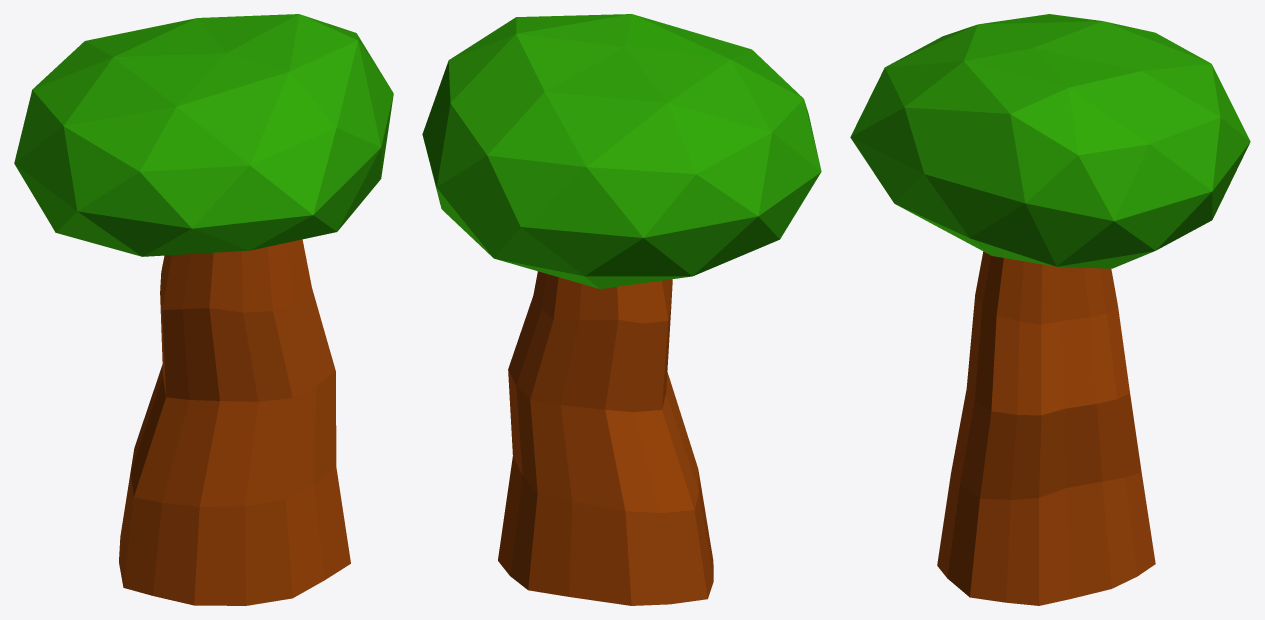
The model's file is bushy_tree.obj.
3 views of the same model, side by side, from view 1: azimuth 30°, elevation 25°; view 2: azimuth 150°, elevation 25°; view 3: azimuth 270°, elevation 25° (orthographic).
Visible parts, largest first — view 1: Icosphere, Cube; view 2: Icosphere, Cube; view 3: Icosphere, Cube.
Part boxes in pixels (x1,y1,x2,y2): Icosphere: (14,14,393,256); Cube: (119,239,350,605); Icosphere: (422,14,821,288); Cube: (498,271,713,605); Icosphere: (850,14,1250,268); Cube: (937,251,1155,605).
Bounding box in the file's own units: 2.48 × 3.69 × 2.58.
